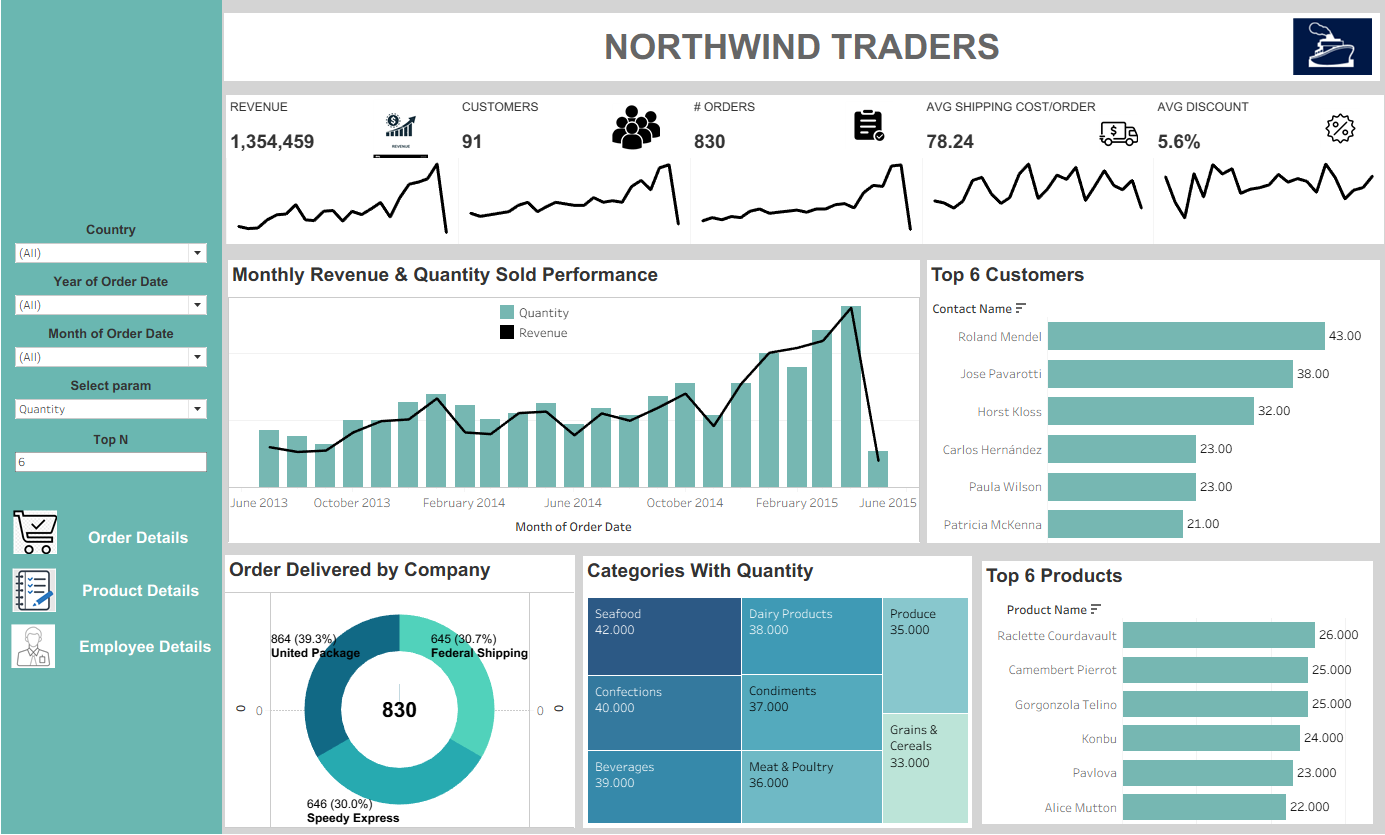

Layout of this report page (visuals, bound fields, positions):
{"tool":"tableau","page":{"name":"Main Dashboard","canvas":[1400,850],"ordinal":1},"visuals":[{"type":"text","box":[231,21,1156,68]},{"type":"image","param":"Image/Screenshot 2025-07-04 114901 1.png","box":[1300,24,79,61]},{"type":"worksheet","title":"REVENUE","mark":"Automatic","box":[233,103,232,63]},{"type":"worksheet","title":"CUSTOMERS","mark":"Automatic","box":[465,103,232,63]},{"type":"worksheet","title":"ORDERS","mark":"Automatic","box":[697,103,232,63]},{"type":"worksheet","title":"AVG SHIPPING COST","mark":"Automatic","box":[929,103,231,63]},{"type":"worksheet","title":"AVG DISCOUNT","mark":"Automatic","box":[1160,103,231,63]},{"type":"image","param":"Image/Revenue.jpg","box":[367,107,82,59]},{"type":"image","param":"Image/Orders.png","box":[842,109,69,48]},{"type":"image","param":"Image/Customer.png","box":[609,111,69,48]},{"type":"image","param":"Image/Discount.jpg","box":[1317,116,61,40]},{"type":"image","param":"Image/Shipping.png","box":[1096,122,60,39]},{"type":"worksheet","title":"REVENUE TREND","mark":"Automatic","rows":["Calculation_270497480264781824"],"cols":["orderDate"],"box":[233,166,232,86]},{"type":"worksheet","title":"CUSTOMERS TREND","mark":"Automatic","rows":["customerID (customers.csv)"],"cols":["orderDate"],"box":[465,166,232,86]},{"type":"worksheet","title":"ORDERS TREND","mark":"Automatic","rows":["orderID"],"cols":["orderDate"],"box":[697,166,232,86]},{"type":"worksheet","title":"AVG SHIPPING TREND","mark":"Automatic","rows":["freight"],"cols":["orderDate"],"box":[929,166,231,86]},{"type":"worksheet","title":"AVG DISCOUNT TREND","mark":"Automatic","rows":["discount"],"cols":["orderDate"],"box":[1160,166,231,86]},{"type":"filter","title":"Month Performance","param":"[federated.1yhsum21cphyfn1e7exco0fki2bl].[none:country:nk]","box":[15,226,206,52]},{"type":"worksheet","title":"Month Performance","mark":"Automatic","rows":["Calculation_270497480264781824","quantity"],"cols":["orderDate"],"box":[235,268,692,283]},{"type":"worksheet","title":"Top N Customers","mark":"Automatic","rows":["contactName"],"cols":["Calculation_270497480284119041"],"box":[934,268,453,283]},{"type":"filter","title":"Month Performance","param":"[federated.1yhsum21cphyfn1e7exco0fki2bl].[yr:orderDate:ok]","box":[15,278,206,52]},{"type":"legend","title":"Month Performance","param":"[federated.1yhsum21cphyfn1e7exco0fki2bl].[:Measure Names]","box":[504,310,127,42]},{"type":"filter","title":"Month Performance","param":"[federated.1yhsum21cphyfn1e7exco0fki2bl].[mn:orderDate:ok]","box":[15,330,206,52]},{"type":"parameter","param":"[Parameters].[Parameter 2]","box":[15,382,206,52]},{"type":"parameter","param":"[Parameters].[Parameter 1]","box":[15,434,206,53]},{"type":"image","param":"Image/order 1.png","box":[20,518,59,44]},{"type":"dashboard-object","box":[69,520,152,52]},{"type":"worksheet","title":"Pie Chart","mark":"Pie","rows":["Calculation_270497480291950596","Calculation_270497480291962886"],"box":[232,563,350,273]},{"type":"worksheet","title":"Category","mark":"Automatic","box":[590,564,389,272]},{"type":"worksheet","title":"Top N Products","mark":"Automatic","rows":["productName"],"cols":["Calculation_270497480284119041"],"box":[985,565,399,271]},{"type":"dashboard-object","box":[71,573,155,52]},{"type":"image","param":"Image/Product 1.png","box":[19,576,59,44]},{"type":"dashboard-object","box":[76,629,152,52]},{"type":"image","param":"Image/Employee.png","box":[18,632,59,44]}]}

Visuals, with their boxes in screenshot pixels (x1, y1, x2, y2), scaled from the page's 1400x850 canvas onto the 1385x835 screenshot:
text: <region>229, 21, 1372, 87</region>
image: <region>1286, 24, 1364, 84</region>
"REVENUE" worksheet: <region>231, 101, 460, 163</region>
"CUSTOMERS" worksheet: <region>460, 101, 690, 163</region>
"ORDERS" worksheet: <region>690, 101, 919, 163</region>
"AVG SHIPPING COST" worksheet: <region>919, 101, 1148, 163</region>
"AVG DISCOUNT" worksheet: <region>1148, 101, 1376, 163</region>
image: <region>363, 105, 444, 163</region>
image: <region>833, 107, 901, 154</region>
image: <region>602, 109, 671, 156</region>
image: <region>1303, 114, 1363, 153</region>
image: <region>1084, 120, 1144, 158</region>
"REVENUE TREND" worksheet: <region>231, 163, 460, 248</region>
"CUSTOMERS TREND" worksheet: <region>460, 163, 690, 248</region>
"ORDERS TREND" worksheet: <region>690, 163, 919, 248</region>
"AVG SHIPPING TREND" worksheet: <region>919, 163, 1148, 248</region>
"AVG DISCOUNT TREND" worksheet: <region>1148, 163, 1376, 248</region>
"Month Performance" filter: <region>15, 222, 219, 273</region>
"Month Performance" worksheet: <region>232, 263, 917, 541</region>
"Top N Customers" worksheet: <region>924, 263, 1372, 541</region>
"Month Performance" filter: <region>15, 273, 219, 324</region>
"Month Performance" legend: <region>499, 305, 624, 346</region>
"Month Performance" filter: <region>15, 324, 219, 375</region>
parameter: <region>15, 375, 219, 426</region>
parameter: <region>15, 426, 219, 478</region>
image: <region>20, 509, 78, 552</region>
dashboard-object: <region>68, 511, 219, 562</region>
"Pie Chart" worksheet (Pie marks): <region>230, 553, 576, 821</region>
"Category" worksheet: <region>584, 554, 969, 821</region>
"Top N Products" worksheet: <region>974, 555, 1369, 821</region>
dashboard-object: <region>70, 563, 224, 614</region>
image: <region>19, 566, 77, 609</region>
dashboard-object: <region>75, 618, 226, 669</region>
image: <region>18, 621, 76, 664</region>
